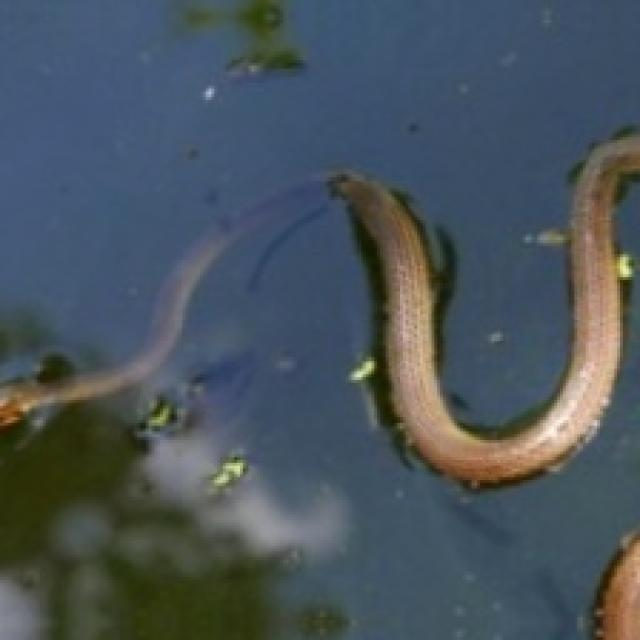gervais worm snake: (0, 135, 640, 487), (601, 538, 640, 640)
